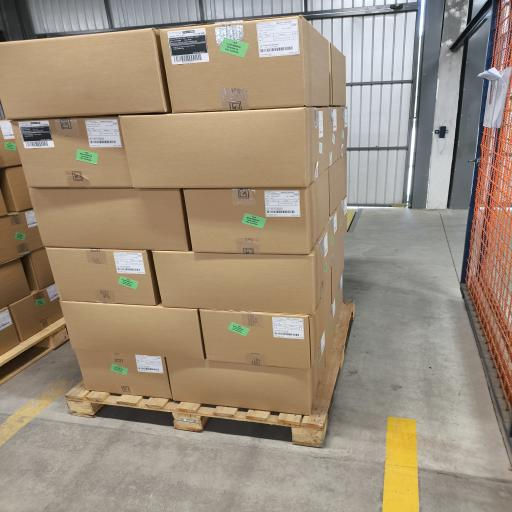pallet: (67, 300, 354, 447), (0, 318, 68, 385)
